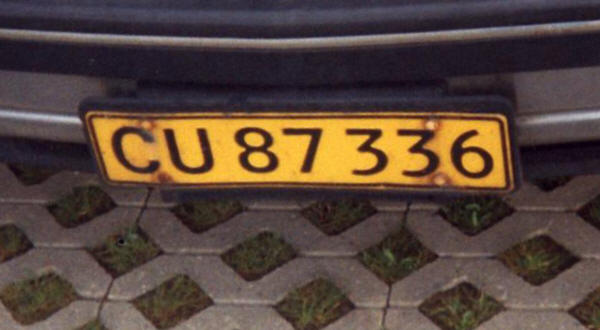license_plate: (84, 110, 516, 193)
